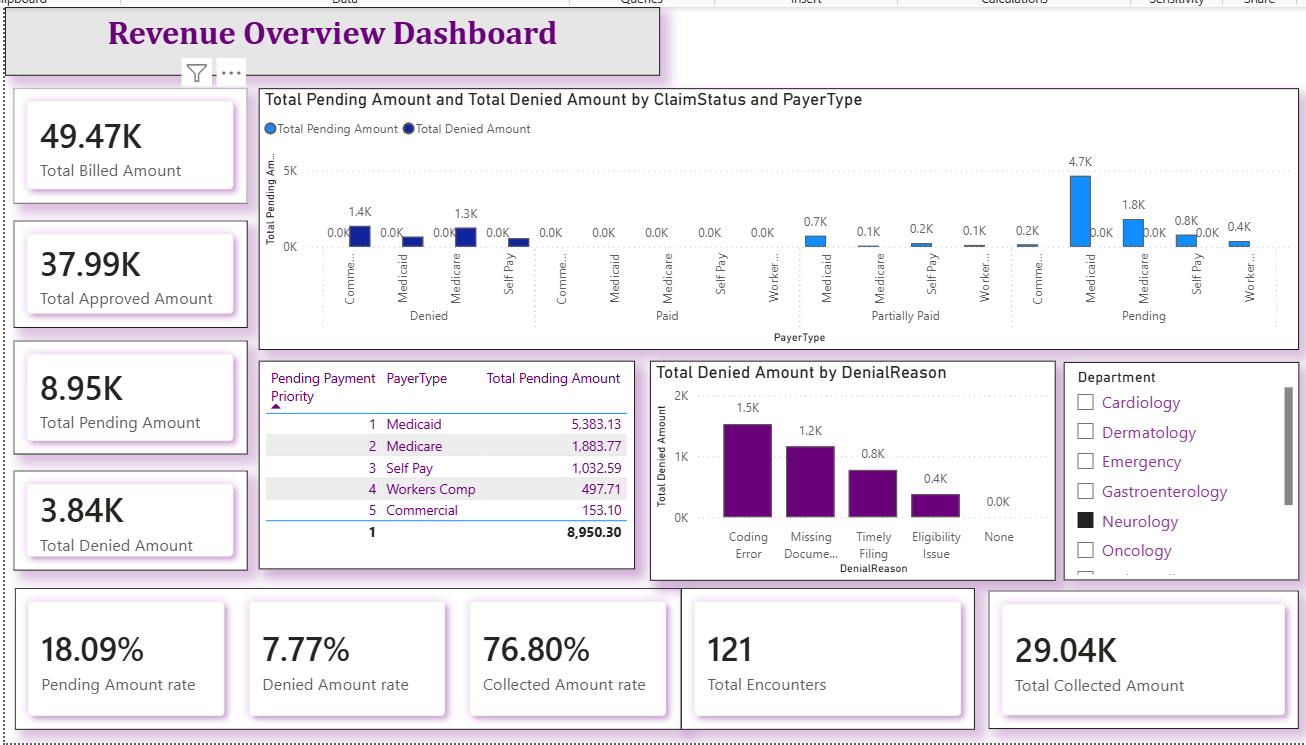

This screenshot's page, from the dashboard's own definition file:
{"tool":"powerbi","page":{"name":"Revenue Overview","canvas":[1280,720],"ordinal":3},"visuals":[{"type":"textbox","box":[0,0,640.8,67.2],"z":0},{"type":"cardVisual","fields":{"Data":["ClaimsTable.Total Approved Amount"]},"box":[8.7,208.6,228.6,104.9],"z":1000},{"type":"cardVisual","fields":{"Data":["ClaimsTable.Total Billed Amount"]},"box":[8.7,79.9,228.6,112.4],"z":2000},{"type":"cardVisual","fields":{"Data":["ClaimsTable.Total Pending Amount"]},"box":[8.7,326,228.6,111.2],"z":3000},{"type":"cardVisual","fields":{"Data":["ClaimsTable.Total Denied Amount"]},"box":[8.7,453.4,228.6,97.4],"z":4000},{"type":"cardVisual","fields":{"Data":["ClaimsTable.Pending Amount rate","ClaimsTable.Denied Amount rate","ClaimsTable.Collected Amount rate"]},"box":[10,568.5,651.8,138.1],"z":5000},{"type":"clusteredColumnChart","fields":{"Category":["ClaimsTable.ClaimStatus","ClaimsTable.PayerType"],"Y":["ClaimsTable.Total Pending Amount","ClaimsTable.Total Denied Amount"]},"box":[248.8,79.6,1017.6,256.3],"z":6000},{"type":"lineClusteredColumnComboChart","fields":{"Category":["ClaimsTable.DenialReason"],"Y":["ClaimsTable.Total Denied Amount"]},"box":[630.7,345.8,396.8,215.2],"z":7000},{"type":"cardVisual","fields":{"Data":["ClaimsTable.Total Encounters"]},"box":[661.8,568.5,287.4,138.1],"z":8000},{"type":"tableEx","fields":{"Values":["ClaimsTable.Pending Payment Priority","PaymentsTable.PayerType","ClaimsTable.Total Pending Amount"]},"box":[248.8,345.8,368.2,204],"z":9000},{"type":"slicer","fields":{"Values":["EncountersTable.Department"]},"box":[1036.2,347.1,230.1,214],"z":10000},{"type":"cardVisual","fields":{"Data":["ClaimsTable.Total Collected Amount"]},"box":[962.8,571,303.5,135.6],"z":11000}]}

Visuals, with their boxes in screenshot pixels (x1, y1, x2, y2):
textbox: {"x1": 14, "y1": 14, "x2": 658, "y2": 81}
cardVisual - ClaimsTable.Total Approved Amount: {"x1": 22, "y1": 223, "x2": 252, "y2": 329}
cardVisual - ClaimsTable.Total Billed Amount: {"x1": 22, "y1": 94, "x2": 252, "y2": 207}
cardVisual - ClaimsTable.Total Pending Amount: {"x1": 22, "y1": 342, "x2": 252, "y2": 454}
cardVisual - ClaimsTable.Total Denied Amount: {"x1": 22, "y1": 470, "x2": 252, "y2": 568}
cardVisual - ClaimsTable.Pending Amount rate x ClaimsTable.Denied Amount rate: {"x1": 24, "y1": 586, "x2": 680, "y2": 725}
clusteredColumnChart - ClaimsTable.ClaimStatus x ClaimsTable.PayerType: {"x1": 264, "y1": 94, "x2": 1288, "y2": 352}
lineClusteredColumnComboChart - ClaimsTable.DenialReason x ClaimsTable.Total Denied Amount: {"x1": 648, "y1": 362, "x2": 1047, "y2": 578}
cardVisual - ClaimsTable.Total Encounters: {"x1": 680, "y1": 586, "x2": 969, "y2": 725}
tableEx - ClaimsTable.Pending Payment Priority x PaymentsTable.PayerType: {"x1": 264, "y1": 362, "x2": 634, "y2": 567}
slicer - EncountersTable.Department: {"x1": 1056, "y1": 363, "x2": 1288, "y2": 578}
cardVisual - ClaimsTable.Total Collected Amount: {"x1": 982, "y1": 588, "x2": 1288, "y2": 725}
